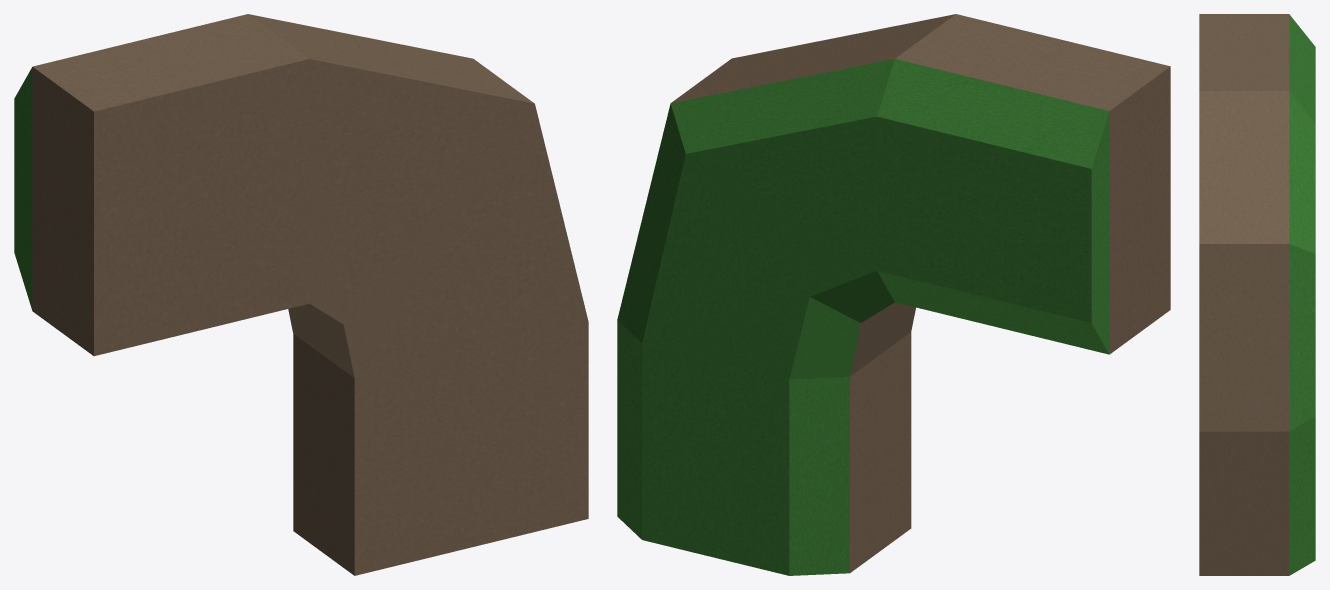
File: de_green_4.fbx
3 views of the same model, side by side, from view 1: azimuth 30°, elevation 25°; view 2: azimuth 150°, elevation 25°; view 3: azimuth 270°, elevation 25° (orthographic). The views are drawn at different scales.
Parts seen in each view (by area): view 1: Cube.305; view 2: Cube.305; view 3: Cube.305.
Part boxes in pixels (left/top/right/bottom): Cube.305: left=14, top=14, right=588, bottom=575; Cube.305: left=617, top=14, right=1170, bottom=575; Cube.305: left=1199, top=14, right=1315, bottom=575.
Bounding box in the file's own units: 372 × 379 × 103.
